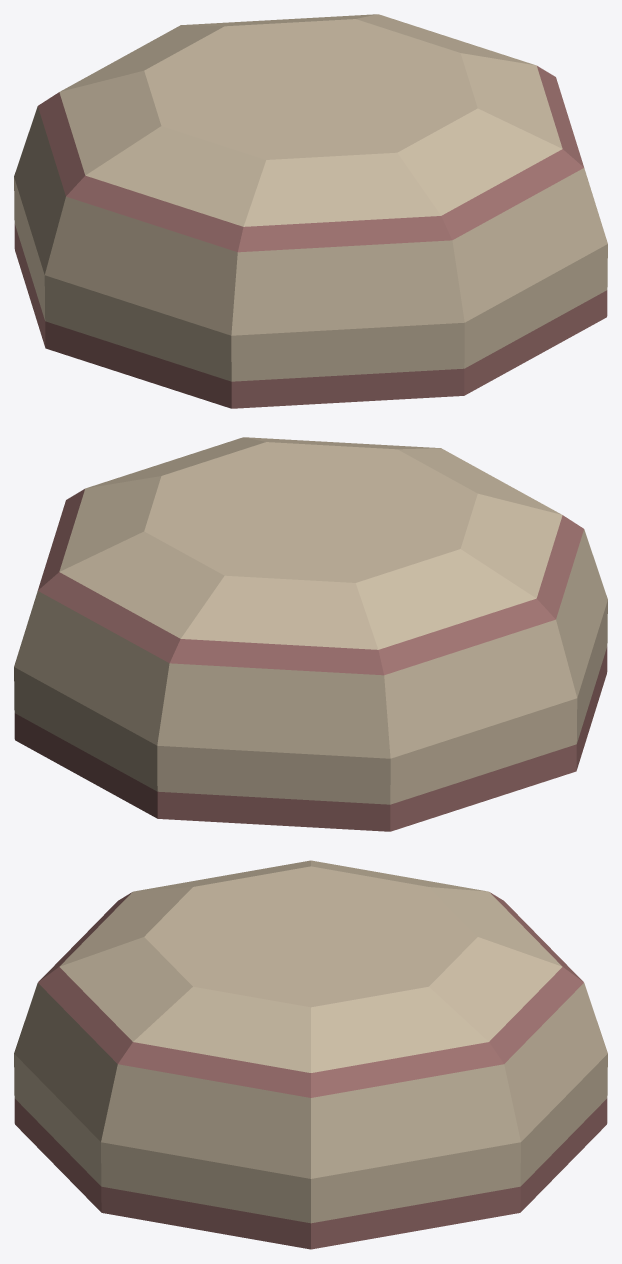
Rendered from SM_Food_Container_Top_01.fbx.
3 renders of one model, top to bottom at view 1: azimuth 30°, elevation 25°; view 2: azimuth 150°, elevation 25°; view 3: azimuth 270°, elevation 25°, orthographic. The views are drawn at different scales.
Parts seen in each view (by area): view 1: Food_Container_Top_01; view 2: Food_Container_Top_01; view 3: Food_Container_Top_01.
Part boxes in pixels (x1,y1,x2,y2): Food_Container_Top_01: (14,14,607,408); Food_Container_Top_01: (14,437,607,831); Food_Container_Top_01: (14,860,607,1249).
Bounding box in the file's own units: 37.12 × 12.93 × 37.12.
